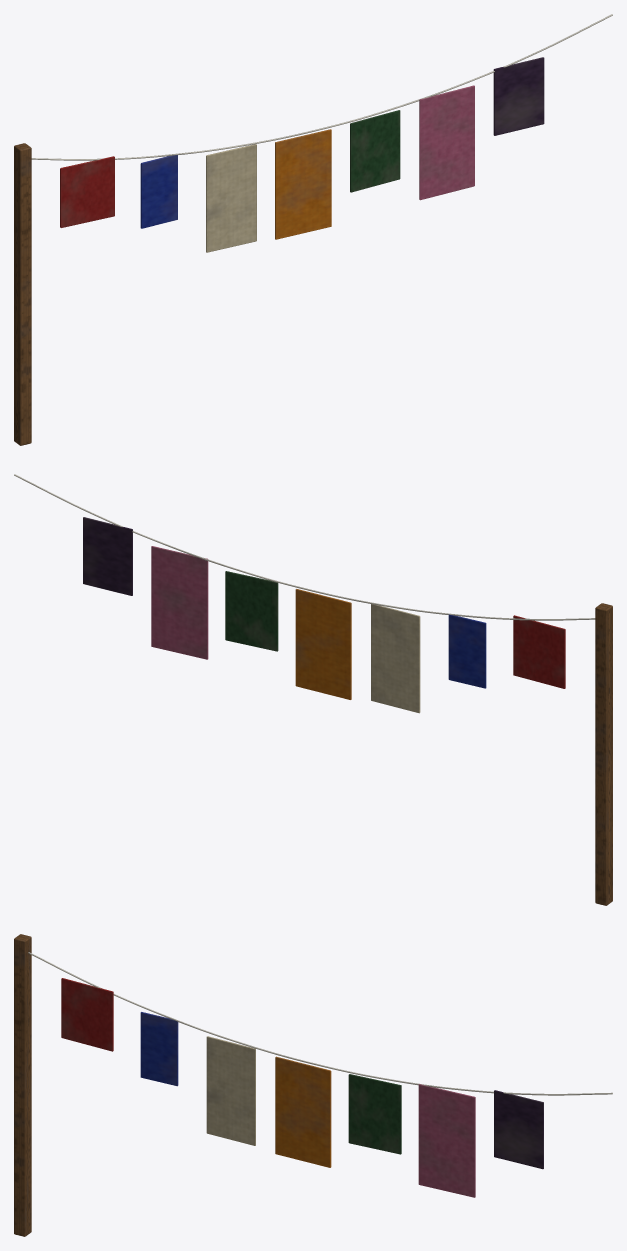
Rendered from pod_sznur.glb.
The picture shows the model from 3 angles, top to bottom: view 1: azimuth 30°, elevation 25°; view 2: azimuth 150°, elevation 25°; view 3: azimuth 330°, elevation 25°; orthographic projection.
Parts seen in each view (by area): view 1: Sznur; view 2: Sznur; view 3: Sznur.
Part boxes in pixels (left/top/right/bottom): Sznur: left=14, top=14, right=612, bottom=445; Sznur: left=14, top=474, right=612, bottom=905; Sznur: left=14, top=934, right=612, bottom=1236.
Bounding box in the file's own units: 5.05 × 2.4 × 0.1.
1 material, 1 textured.
